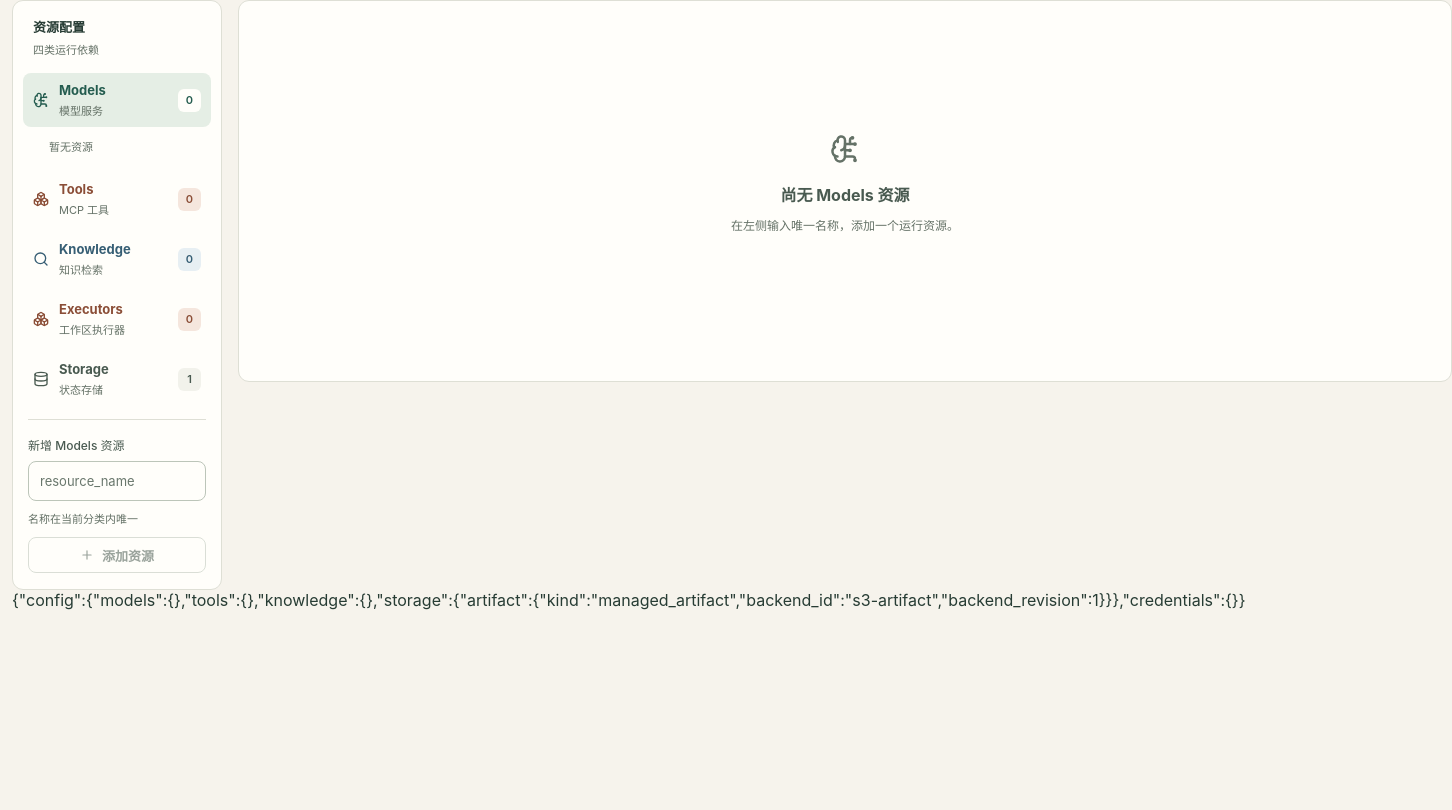
Test case: preserves both statuses without editing when directory is different revision
The width and height of the screenshot is (1452, 810).
Step 1. Click the button with aria-label "Storage ·" → [117, 379], box [23, 352, 211, 406]
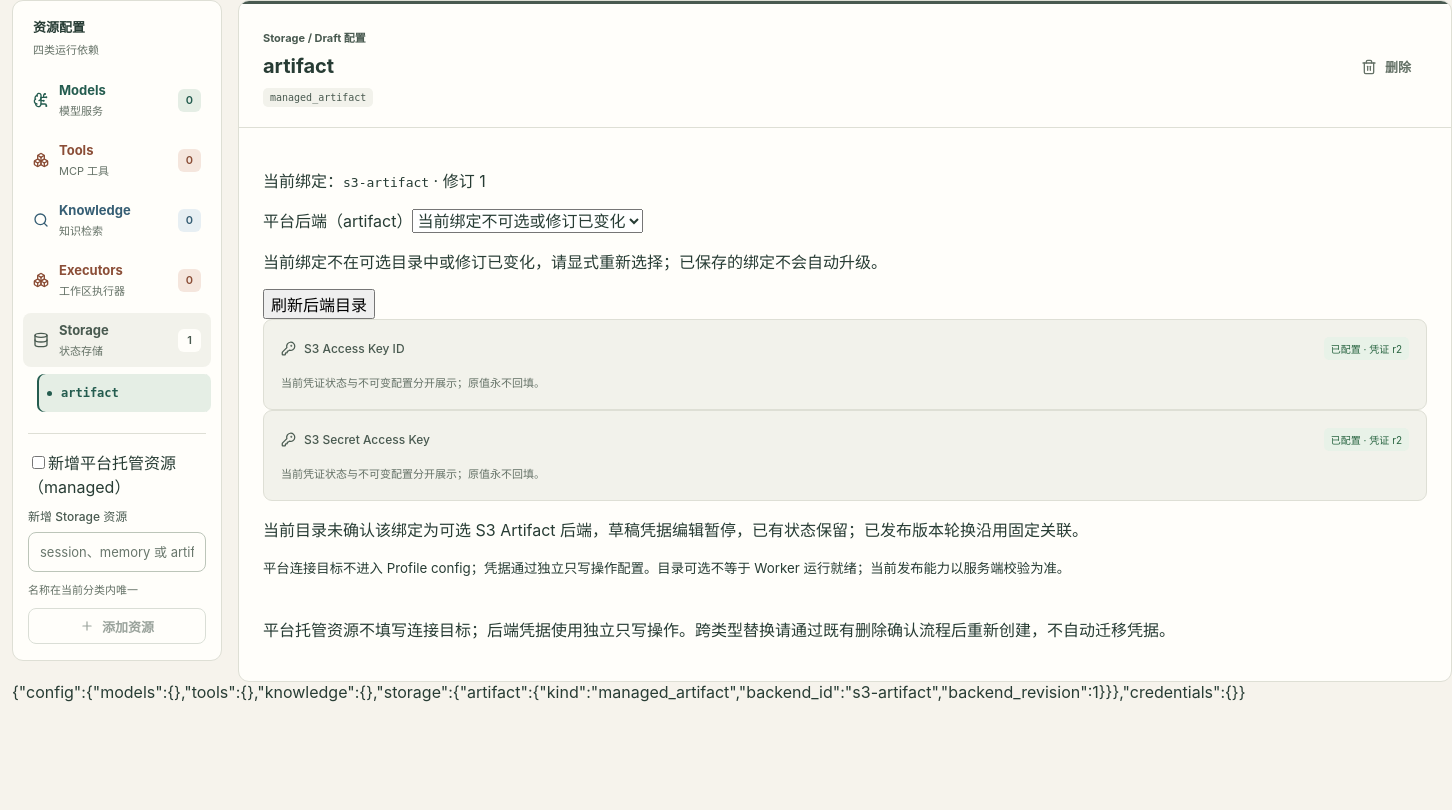
Expected: the button "刷新后端目录" is enabled, [263, 289, 375, 319]
Expected: the element "S3 Access Key ID" shows "凭证 r2", [1331, 343, 1402, 355]
Expected: the element "S3 Secret Access Key" shows "凭证 r2", [1331, 434, 1402, 446]
